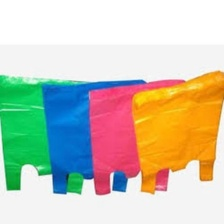plastic_bag: (37, 73, 151, 201), (128, 65, 224, 200), (85, 76, 188, 200), (0, 72, 92, 196)
